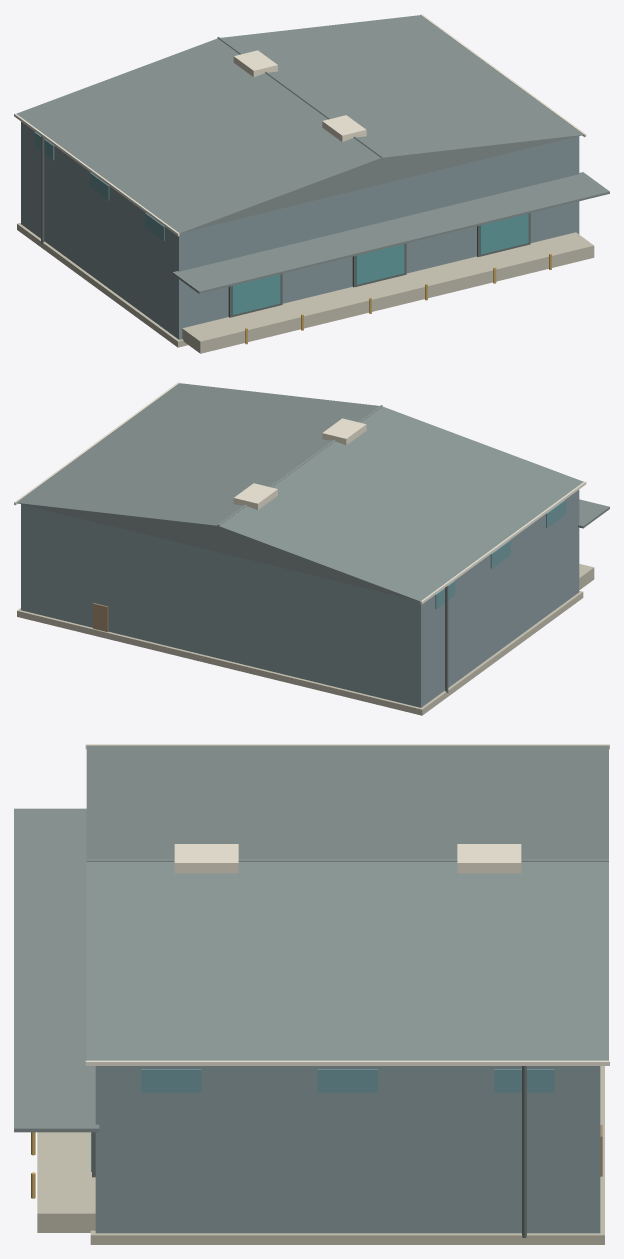
The picture shows the model from 3 angles, top to bottom: view 1: azimuth 30°, elevation 25°; view 2: azimuth 150°, elevation 25°; view 3: azimuth 270°, elevation 25°; orthographic projection. The views are drawn at different scales.
Size of the model in its own units: 39 by 13.28 by 30.7.
